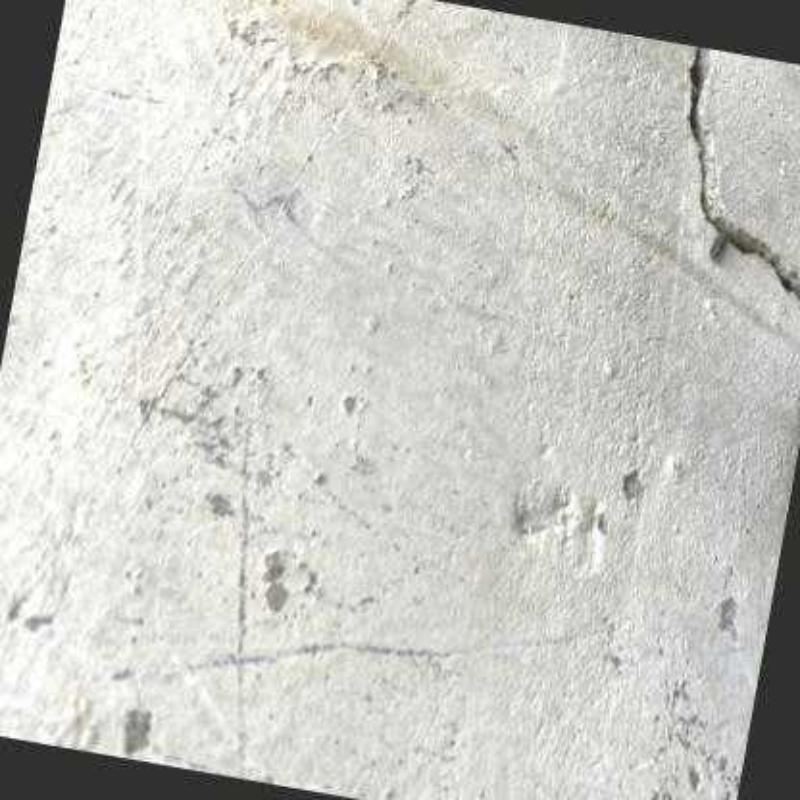crack: (685, 45, 800, 307)
